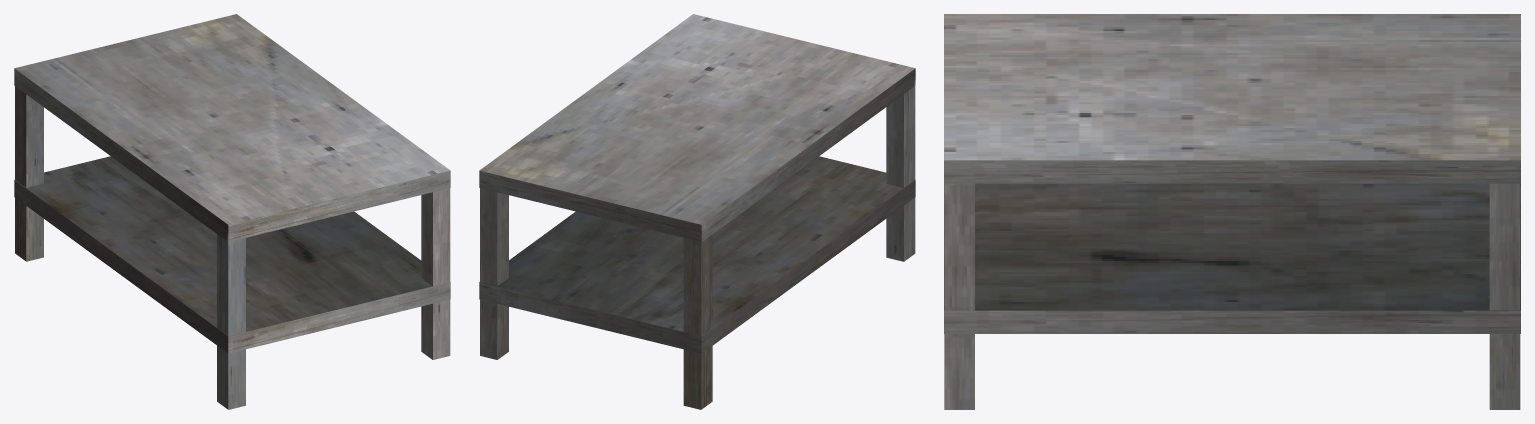
The model's file is Shelf.fbx.
3 views of the same model, side by side, from view 1: azimuth 30°, elevation 25°; view 2: azimuth 150°, elevation 25°; view 3: azimuth 270°, elevation 25° (orthographic). The views are drawn at different scales.
Parts seen in each view (by area): view 1: Cube.005, Cube.004, Cube.003, Cube.001, Cube; view 2: Cube.005, Cube.004, Cube, Cube.002, Cube.001; view 3: Cube.005, Cube.004, Cube.002, Cube.003.
Boxes of the visible parts, bbox=[...] form: Cube.005: bbox=[14, 14, 450, 241]; Cube.004: bbox=[14, 156, 450, 353]; Cube.003: bbox=[421, 188, 450, 359]; Cube.001: bbox=[217, 234, 245, 409]; Cube: bbox=[15, 86, 43, 261]; Cube.005: bbox=[479, 14, 915, 242]; Cube.004: bbox=[479, 156, 915, 353]; Cube: bbox=[683, 234, 712, 409]; Cube.002: bbox=[480, 188, 508, 359]; Cube.001: bbox=[886, 86, 915, 261]; Cube.005: bbox=[944, 14, 1520, 183]; Cube.004: bbox=[944, 183, 1520, 333]; Cube.002: bbox=[1489, 183, 1520, 409]; Cube.003: bbox=[944, 183, 974, 409].
Size of the model in its own units: 0.6207 by 0.494 by 1.03.
1 material, 1 textured.
